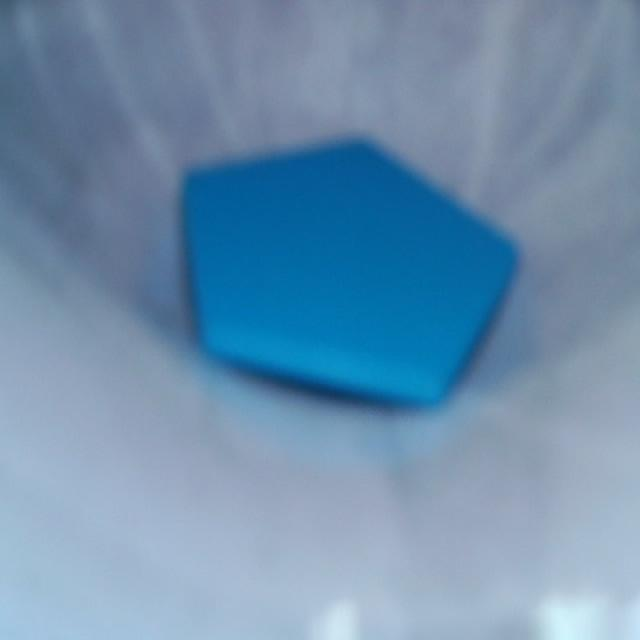pentagon: (184, 144, 515, 400)
